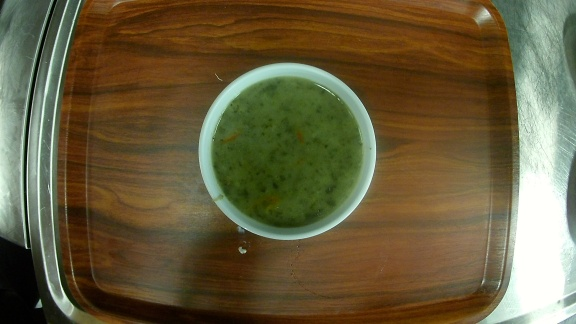brokolicorba: (197, 61, 381, 242)
